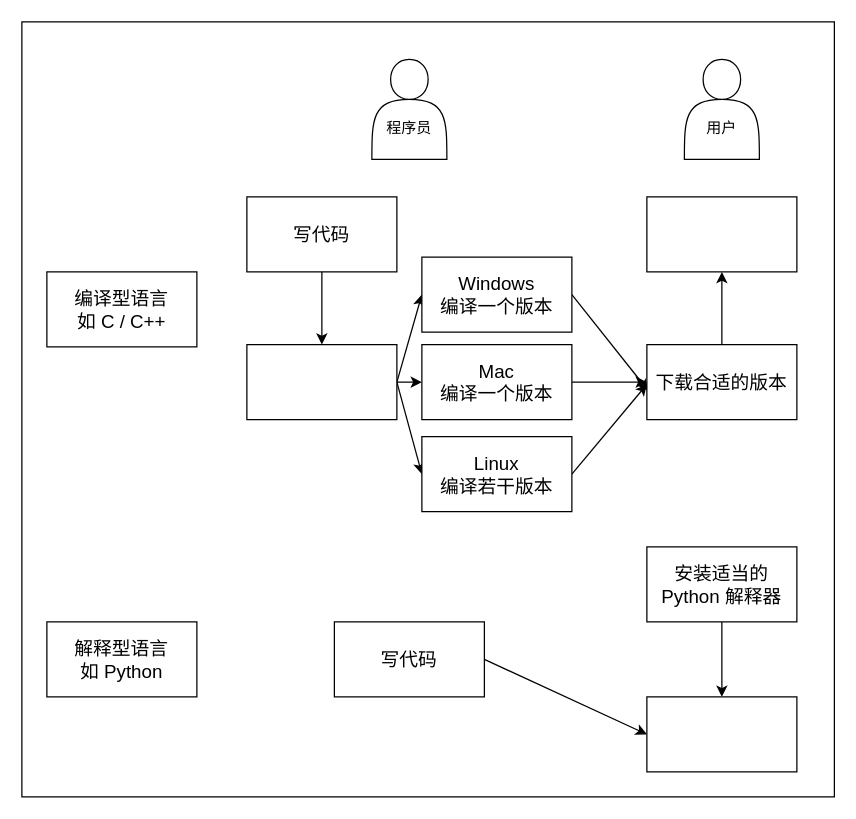
Some shapes in this 856 by 819 pixel diagram are drawn without their labels. Here are the shapes that lost their labels. From the top down, the centre of each, then its label:
(x=721, y=234): 运行 程序
(x=321, y=381): 编译成 可执行文件
(x=721, y=734): 运行 代码
